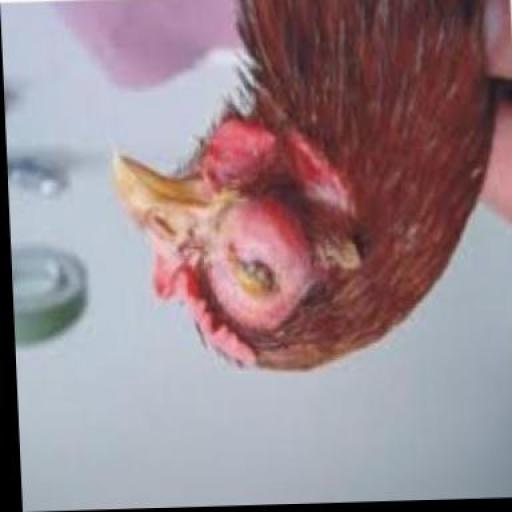disease: (118, 124, 354, 352)
